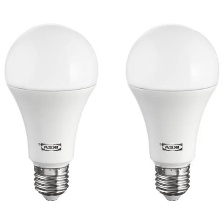light_bulb: (0, 17, 104, 206), (124, 20, 223, 204)
